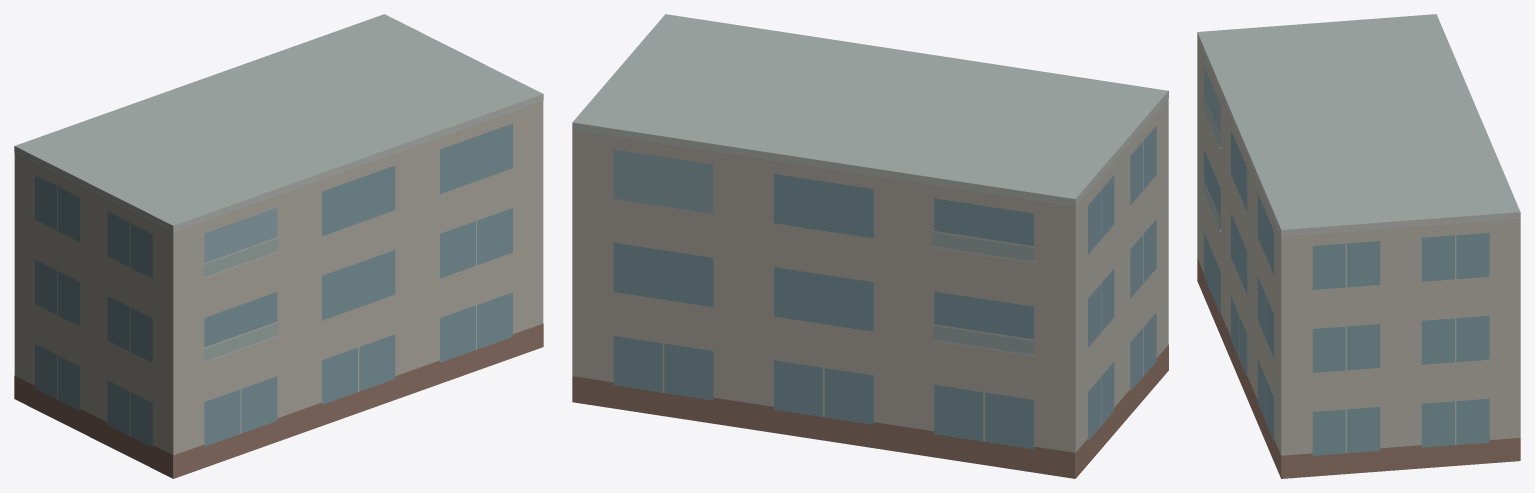
The model's file is survey-upis-32707333.glb.
3 views of the same model, side by side, from view 1: azimuth 30°, elevation 25°; view 2: azimuth 150°, elevation 25°; view 3: azimuth 270°, elevation 25° (orthographic). The views are drawn at different scales.
Parts seen in each view (by area): view 1: survey-upis-32707333.tmp; view 2: survey-upis-32707333.tmp; view 3: survey-upis-32707333.tmp.
Part boxes in pixels (left/top/right/bottom): survey-upis-32707333.tmp: left=14, top=14, right=543, bottom=478; survey-upis-32707333.tmp: left=572, top=14, right=1168, bottom=478; survey-upis-32707333.tmp: left=1197, top=14, right=1520, bottom=478.
Size of the model in its own units: 17.04 by 9.15 by 10.78.
